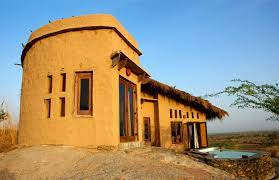Mud House: (10, 11, 225, 156)
